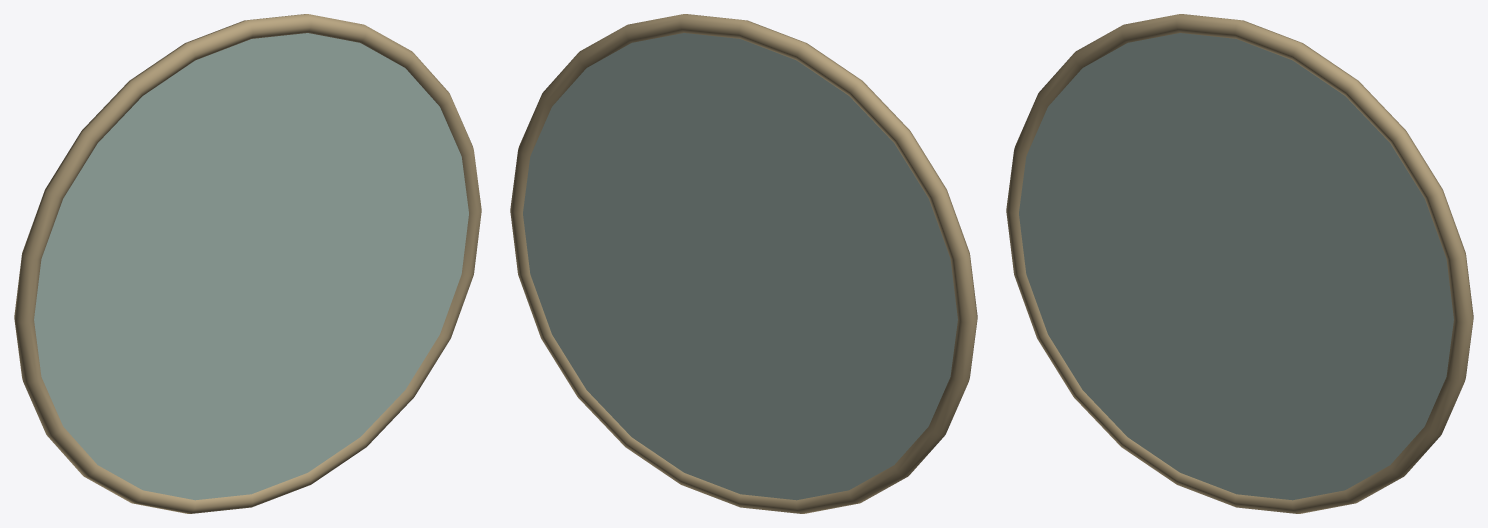
The model's file is mirror.glb.
3 views of the same model, side by side, from view 1: azimuth 30°, elevation 25°; view 2: azimuth 150°, elevation 25°; view 3: azimuth 330°, elevation 25° (orthographic).
Parts seen in each view (by area): view 1: round-reflective-panel, round-mirror-frame; view 2: round-reflective-panel, round-mirror-frame; view 3: round-reflective-panel, round-mirror-frame.
Boxes of the visible parts, left/top/right/bottom form: round-reflective-panel: left=34, top=33, right=468, bottom=500; round-mirror-frame: left=14, top=14, right=481, bottom=513; round-reflective-panel: left=523, top=33, right=957, bottom=500; round-mirror-frame: left=510, top=14, right=977, bottom=513; round-reflective-panel: left=1019, top=33, right=1453, bottom=500; round-mirror-frame: left=1006, top=14, right=1473, bottom=513.
Size of the model in its own units: 0.9428 by 0.9428 by 0.036.
